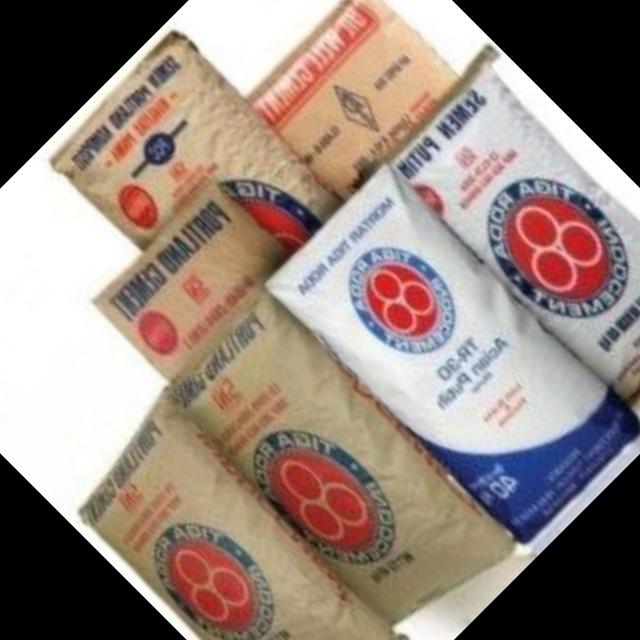KantongSemen: (259, 162, 640, 551), (143, 273, 521, 640), (364, 47, 640, 416), (50, 382, 416, 640), (54, 31, 354, 332), (74, 170, 309, 406), (234, 0, 466, 207)
